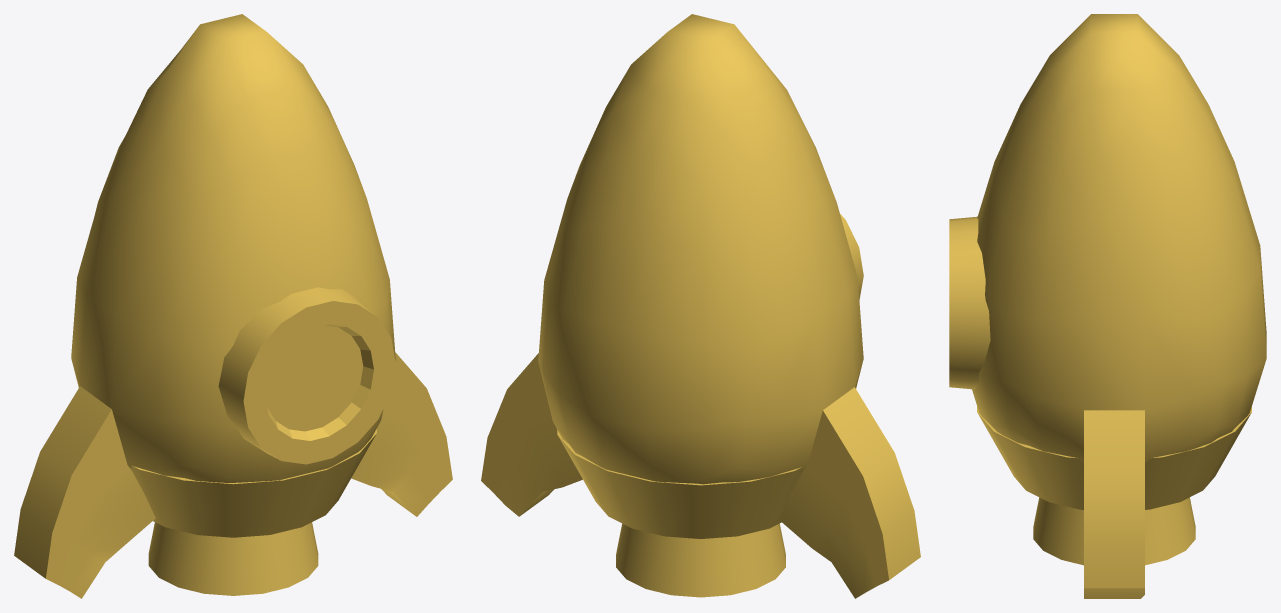
The model's file is Rocket.fbx.
3 views of the same model, side by side, from view 1: azimuth 30°, elevation 25°; view 2: azimuth 150°, elevation 25°; view 3: azimuth 270°, elevation 25° (orthographic). The views are drawn at different scales.
Visible parts, largest first — view 1: Box005; view 2: Box005; view 3: Box005.
Part boxes in pixels (bbox=[...]): Box005: bbox=[14, 14, 452, 598]; Box005: bbox=[481, 14, 920, 598]; Box005: bbox=[949, 14, 1266, 598].
Size of the model in its own units: 146 by 182 by 103.
